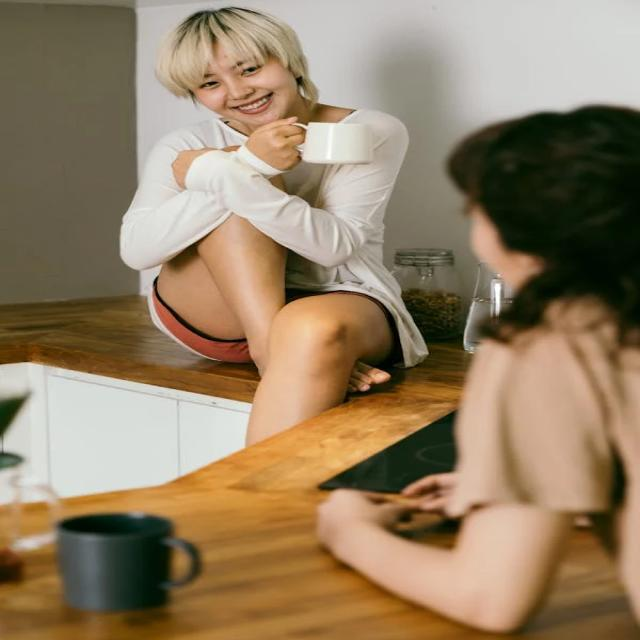Real human 2: (118, 0, 452, 462)
